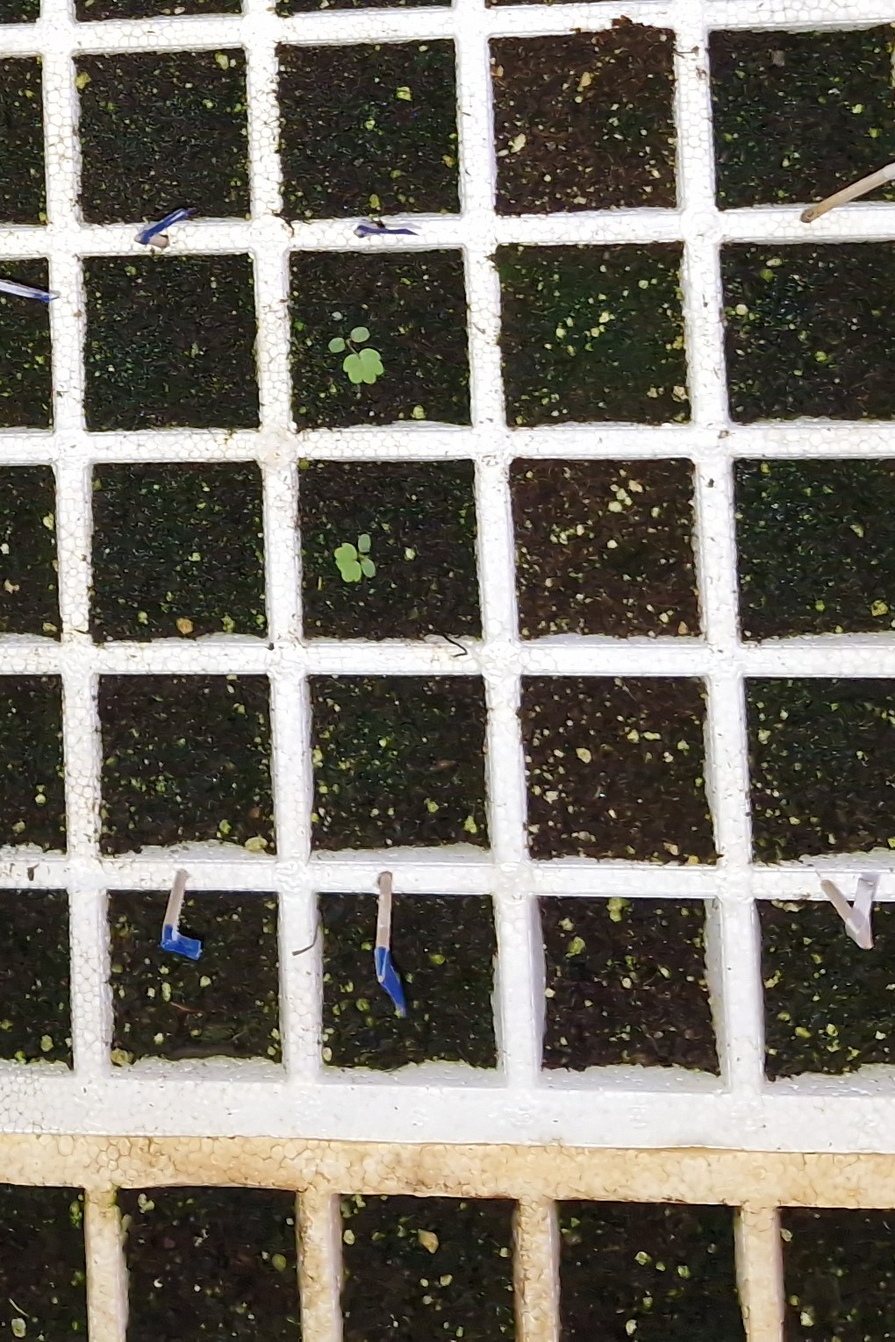Folha: (343, 348, 384, 384), (335, 543, 361, 583), (350, 327, 370, 343), (328, 337, 345, 353), (361, 558, 375, 577), (358, 533, 371, 552)
Germinacao: (328, 327, 384, 384), (334, 534, 376, 582)
